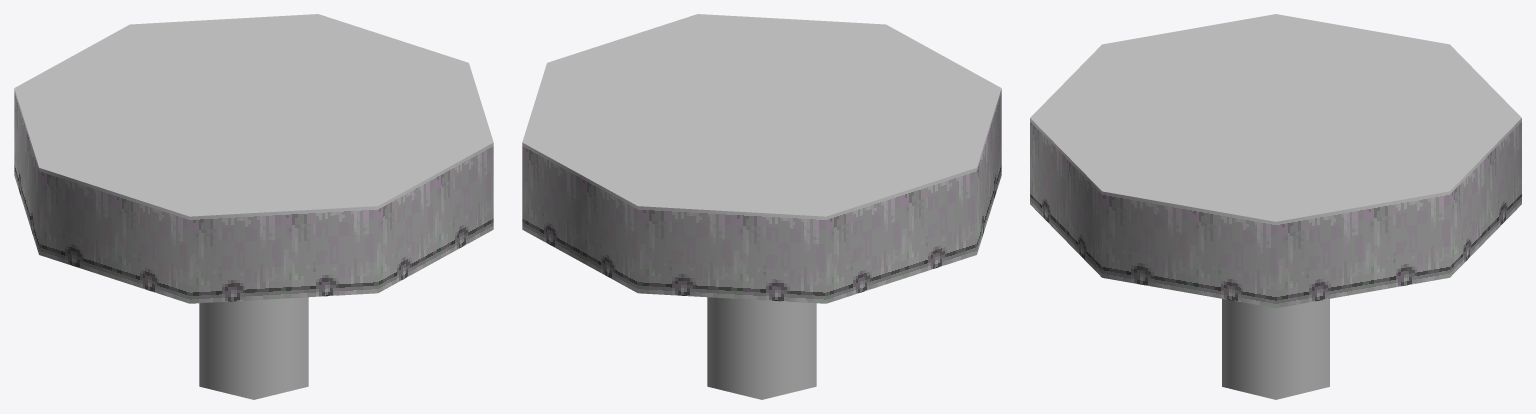
File: CapsuleTop.obj
3 views of the same model, side by side, from view 1: azimuth 30°, elevation 25°; view 2: azimuth 150°, elevation 25°; view 3: azimuth 270°, elevation 25° (orthographic).
Size of the model in its own units: 28.38 by 16.28 by 28.38.
